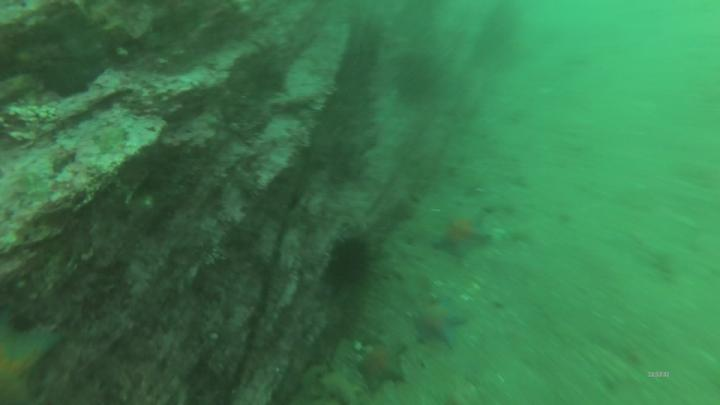echinus: (333, 240, 370, 281)
starfish: (2, 317, 55, 405), (412, 302, 460, 347), (436, 221, 485, 260), (359, 348, 403, 384)
